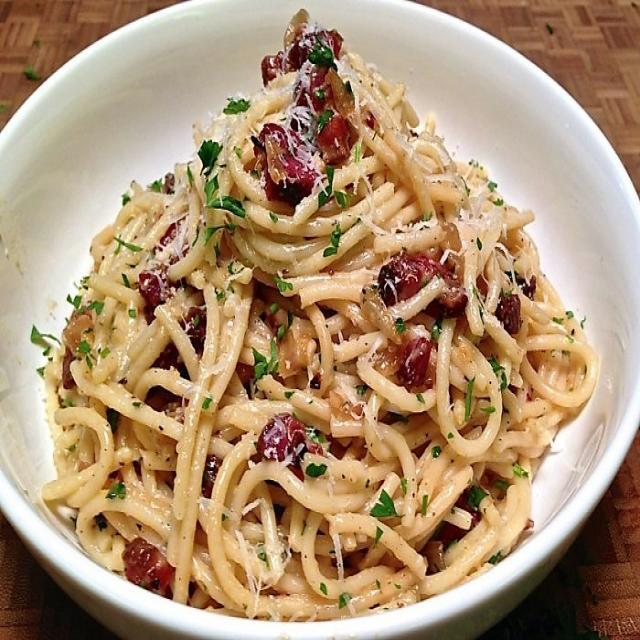Oil pasta: (68, 15, 552, 597)
